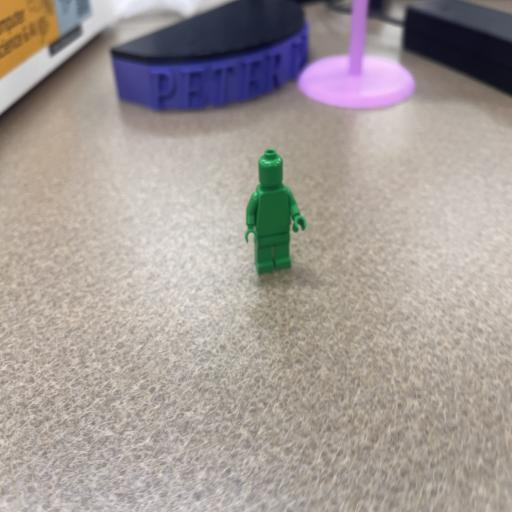Lego-Minifig: (245, 149, 307, 274)
